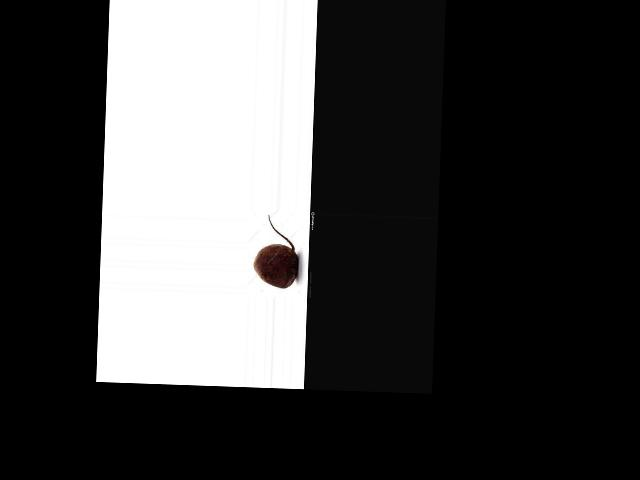beet: (253, 215, 299, 289)
